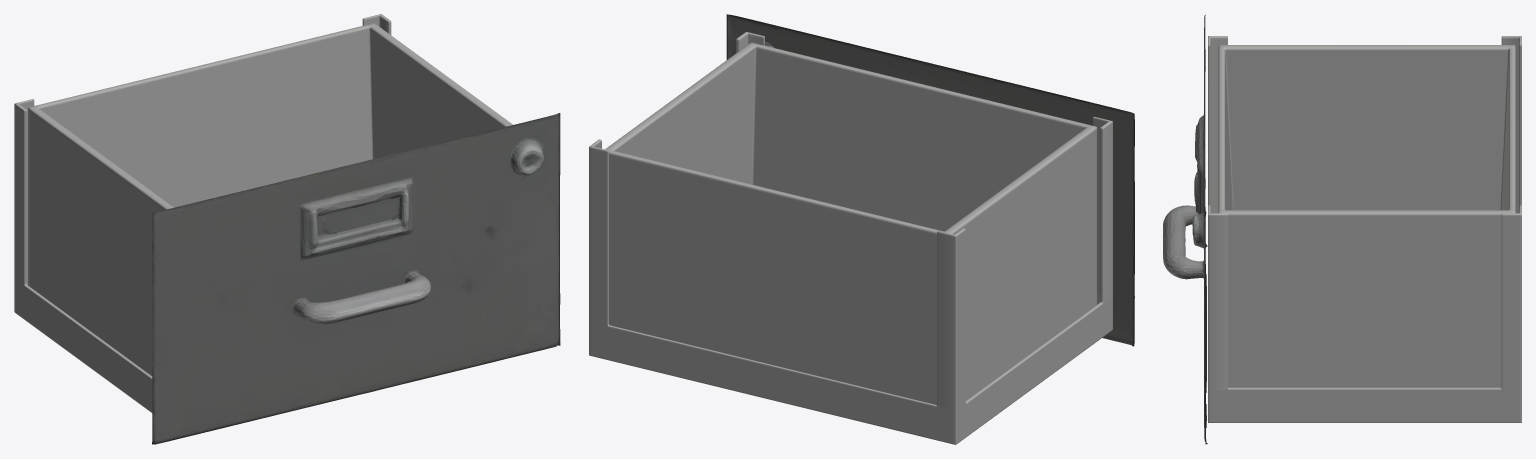
Rendered from drawer_top.glb.
3 renders of one model, left to right at view 1: azimuth 30°, elevation 25°; view 2: azimuth 150°, elevation 25°; view 3: azimuth 270°, elevation 25°, orthographic.
Visible parts, largest first — view 1: source_front_cap_0, prefab_drawer_body_1; view 2: prefab_drawer_body_1, source_front_cap_0; view 3: prefab_drawer_body_1, source_front_cap_0.
Boxes of the visible parts, <box> form: source_front_cap_0: <box>152,113,560,444</box>; prefab_drawer_body_1: <box>14,14,512,412</box>; prefab_drawer_body_1: <box>589,31,1112,444</box>; source_front_cap_0: <box>726,14,1134,346</box>; prefab_drawer_body_1: <box>1208,36,1521,422</box>; source_front_cap_0: <box>1163,15,1207,444</box>.
Size of the model in its own units: 0.9256 by 0.5042 by 0.7061.
2 materials, 1 textured.
